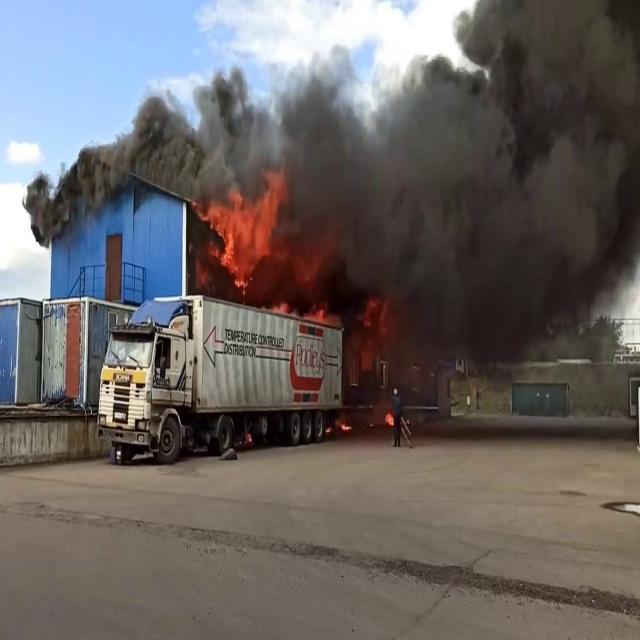Fire: (206, 180, 288, 290)
Smoke: (288, 1, 640, 362), (29, 49, 278, 231)
